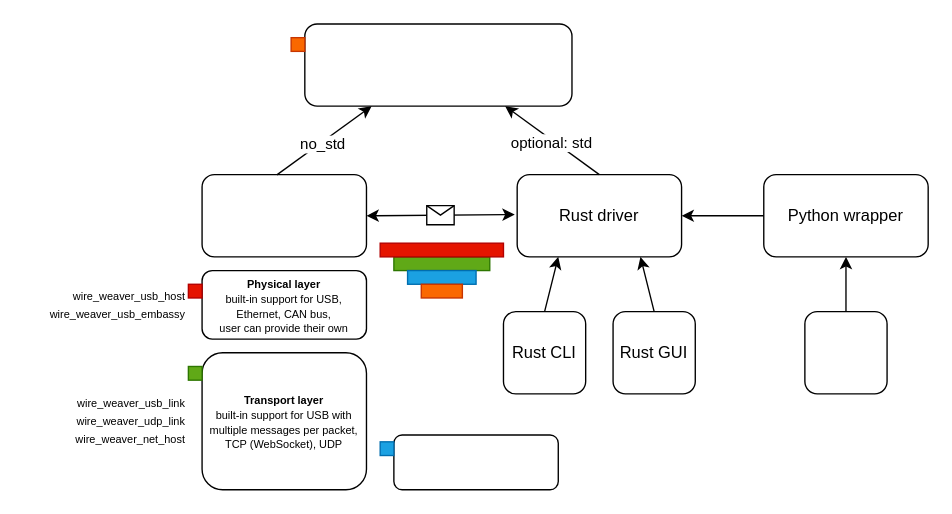
Image size: 952x514. Some labels were removed from this diagram. The shapes that lost their labels are listed below. From the top down, each one's centre as x and y in pixels, then its label:
(437,64): API and data structures crate "my_device_api" 0.1.0
(283,215): MCU firmware
(845,352): Scripts, Tests
(475,462): API model ww_client_server crate
